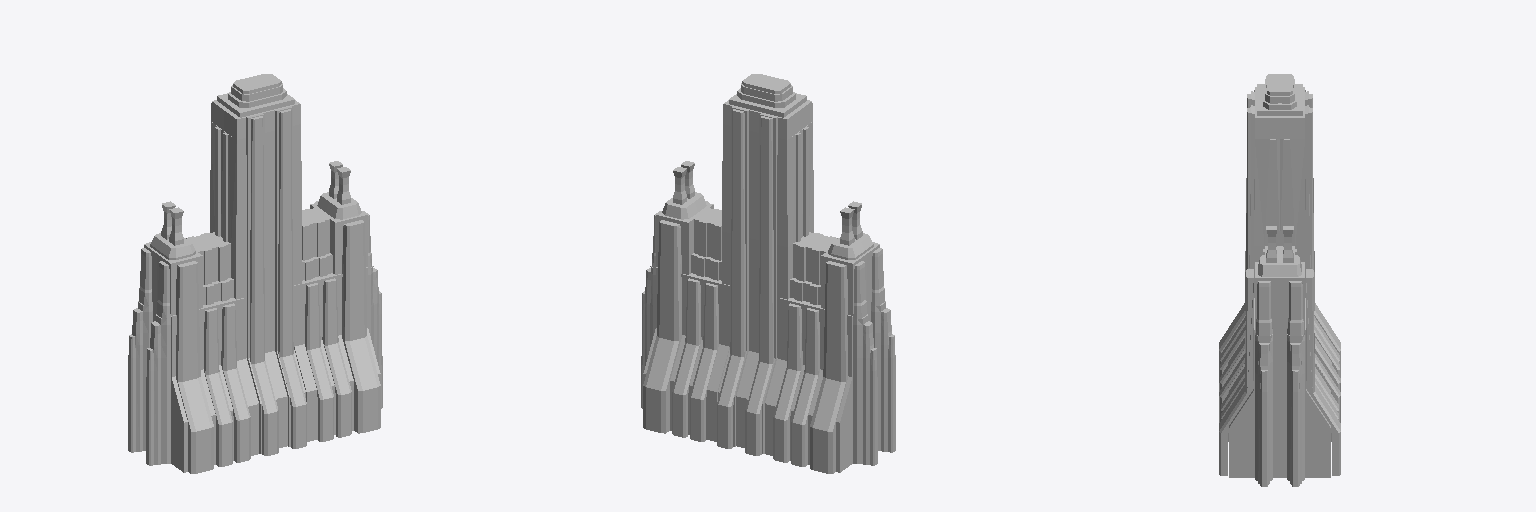
The model's file is Building_H.obj.
The picture shows the model from 3 angles: view 1: azimuth 30°, elevation 25°; view 2: azimuth 150°, elevation 25°; view 3: azimuth 270°, elevation 25°; orthographic projection.
Parts seen in each view (by area): view 1: Building_H; view 2: Building_H; view 3: Building_H.
Boxes of the visible parts, x1,y1,x2,y2 form: Building_H: [128, 74, 382, 473]; Building_H: [641, 74, 895, 473]; Building_H: [1219, 74, 1340, 486].
Size of the model in its own units: 4178 by 5901 by 1889.